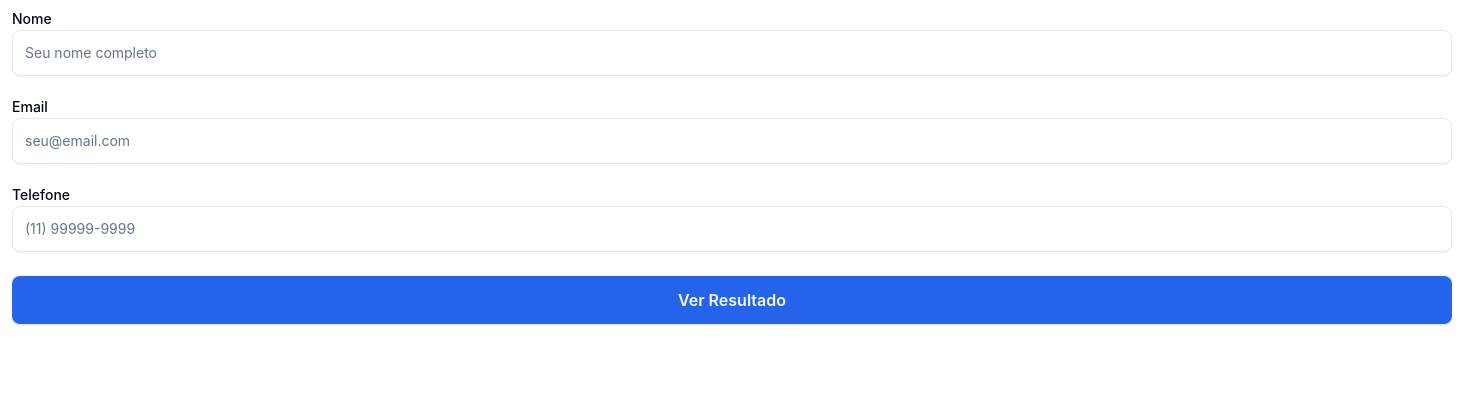
LeadForm › should show validation error for empty name
The image size is (1464, 414).
Click the button "Ver Resultado" at (732, 300), box x1=12 y1=276 x2=1452 y2=324
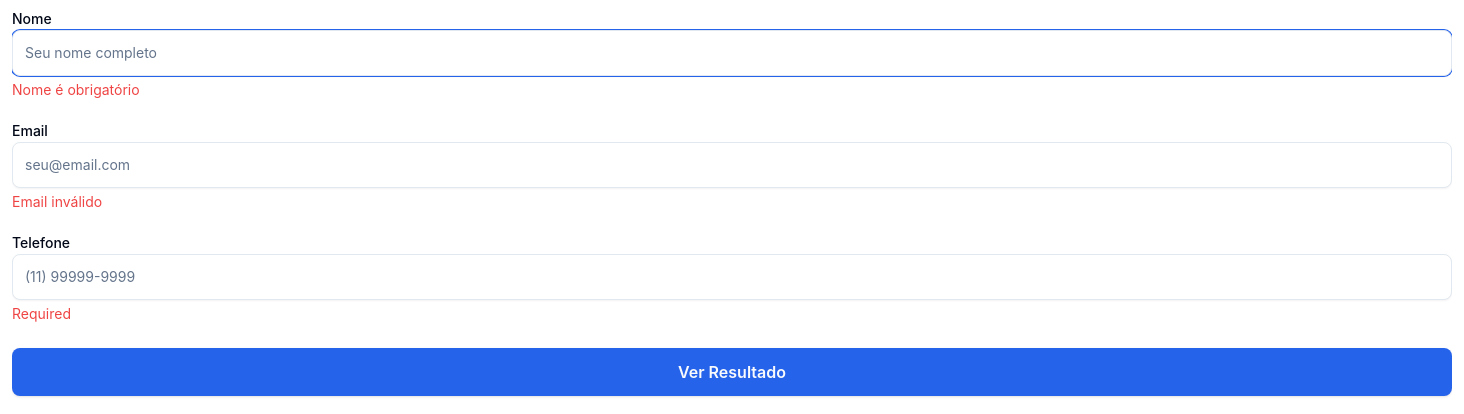
Expected: the text "Nome é obrigatório" is shown, x1=12 y1=81 x2=140 y2=98
